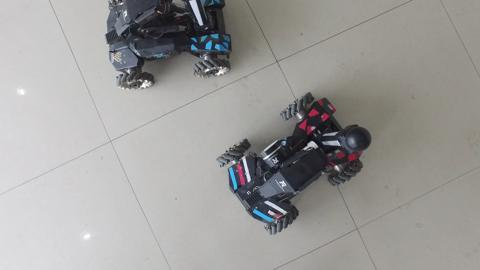chariot: (213, 81, 371, 240), (103, 1, 239, 96)
